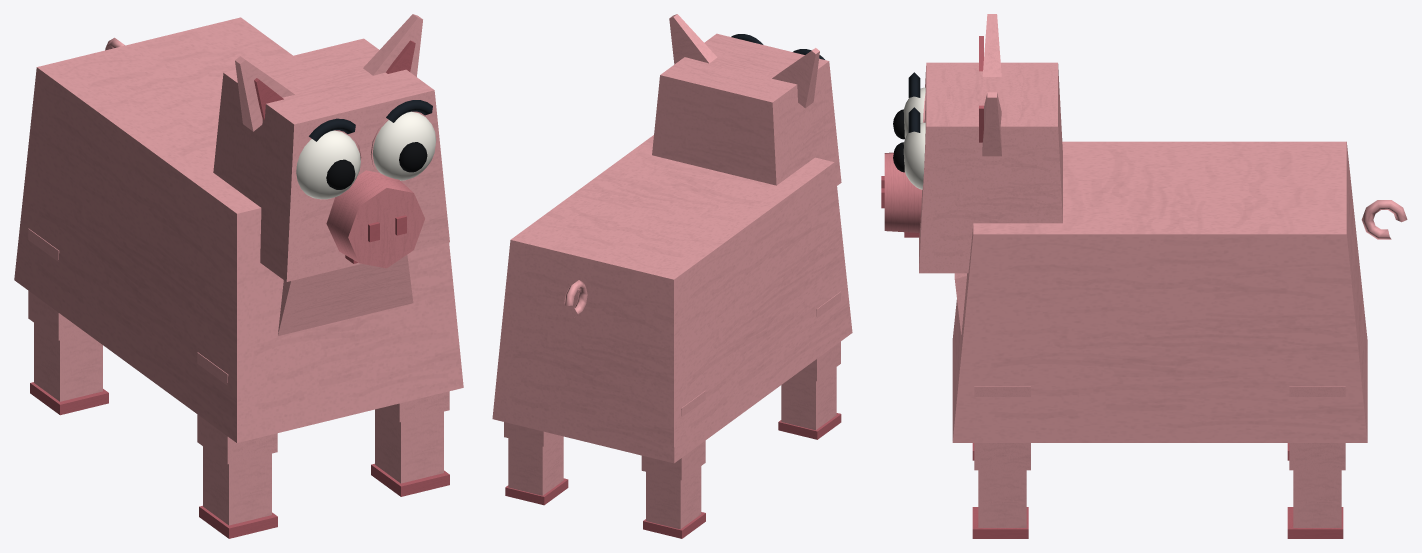
Rendered from pig.glb.
The picture shows the model from 3 angles, left to right: view 1: azimuth 30°, elevation 25°; view 2: azimuth 150°, elevation 25°; view 3: azimuth 270°, elevation 25°; orthographic projection. The views are drawn at different scales.
Visible parts, largest first — view 1: body, head, neck, kneeFR, kneeFL, kneeBR, legFR, earR, earL, legBR, legFL; view 2: body, head, kneeBL, kneeBR, kneeFR, legBR, earR, earL, legFR, legBL, tail; view 3: body, head, kneeFL, kneeBL, legFL, legBL, earL, earR, tail.
Boxes of the visible parts, x1,y1,x2,y2 form: body: (14,17,463,442); head: (213,38,449,281); neck: (278,255,413,335); kneeFR: (199,446,277,538); kneeFL: (371,408,449,496); kneeBR: (30,323,108,415); legFR: (197,352,277,464); earR: (235,56,294,131); earL: (363,14,422,76); legBR: (28,228,86,340); legFL: (380,391,449,422); body: (492,135,852,463); head: (652,33,841,185); kneeBL: (505,435,568,505); kneeBR: (643,466,705,538); kneeFR: (778,367,841,439); legBR: (641,391,705,480); earR: (772,48,819,108); earL: (669,14,717,64); legFR: (794,291,840,381); legBL: (504,422,558,446); tail: (564,280,587,314); body: (952,141,1367,442); head: (881,62,1062,273); kneeFL: (972,470,1028,538); kneeBL: (1287,470,1343,538); legFL: (974,386,1030,470); legBL: (1289,386,1345,470); earL: (979,92,1001,156); earR: (979,14,1001,76); tail: (1361,200,1407,239).
Size of the model in its own units: 0.5 by 0.9845 by 1.08.
Materials: 15 (12 with a texture image).
